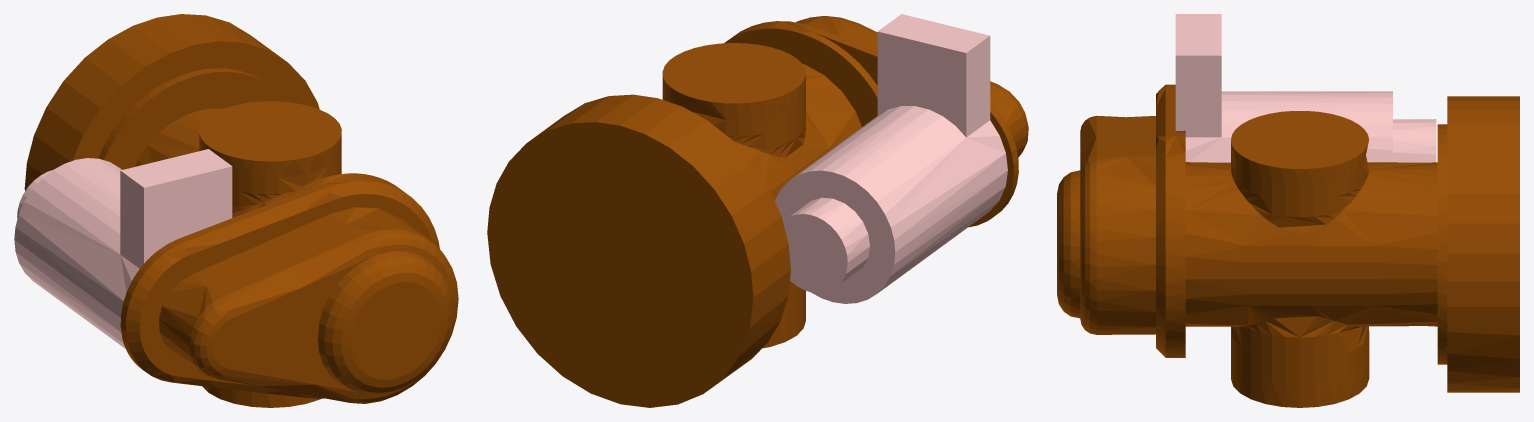
File: HEAD_LINK0_mesh.dae
The picture shows the model from 3 angles, left to right: view 1: azimuth 30°, elevation 25°; view 2: azimuth 150°, elevation 25°; view 3: azimuth 270°, elevation 25°; orthographic projection. The views are drawn at different scales.
Parts seen in each view (by area): view 1: HEAD_LINK0 (×2); view 2: HEAD_LINK0 (×2); view 3: HEAD_LINK0 (×2).
Part boxes in pixels (x1,y1,x2,y2): HEAD_LINK0 (×2): (14, 14, 458, 407); HEAD_LINK0 (×2): (487, 14, 1028, 407); HEAD_LINK0 (×2): (1057, 14, 1519, 407).
Bounding box in the file's own units: 0.1177 × 0.092 × 0.1405.
